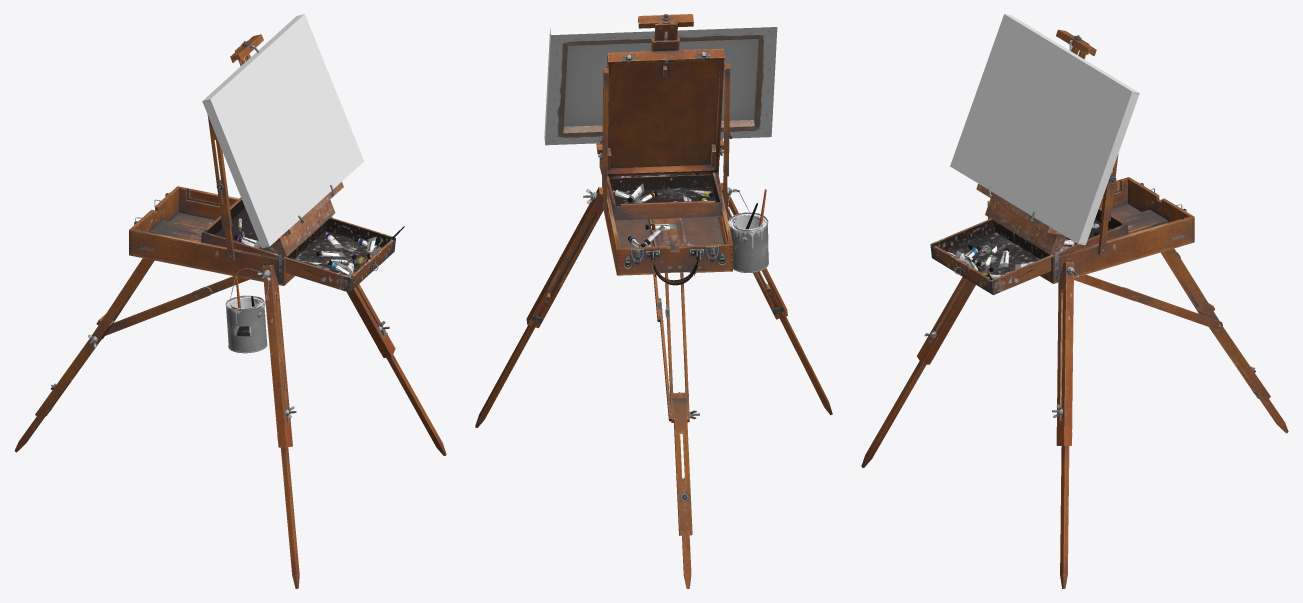
File: SM_MERGED_canvas2.fbx
The picture shows the model from 3 angles, left to right: view 1: azimuth 30°, elevation 25°; view 2: azimuth 150°, elevation 25°; view 3: azimuth 270°, elevation 25°; orthographic projection. The views are drawn at different scales.
Parts seen in each view (by area): view 1: SM_MERGED_canvas2; view 2: SM_MERGED_canvas2; view 3: SM_MERGED_canvas2.
Part boxes in pixels (left/top/right/bottom): SM_MERGED_canvas2: left=14, top=14, right=446, bottom=588; SM_MERGED_canvas2: left=475, top=14, right=832, bottom=588; SM_MERGED_canvas2: left=861, top=14, right=1288, bottom=588.
Size of the model in its own units: 1.06 by 1.45 by 1.22.
